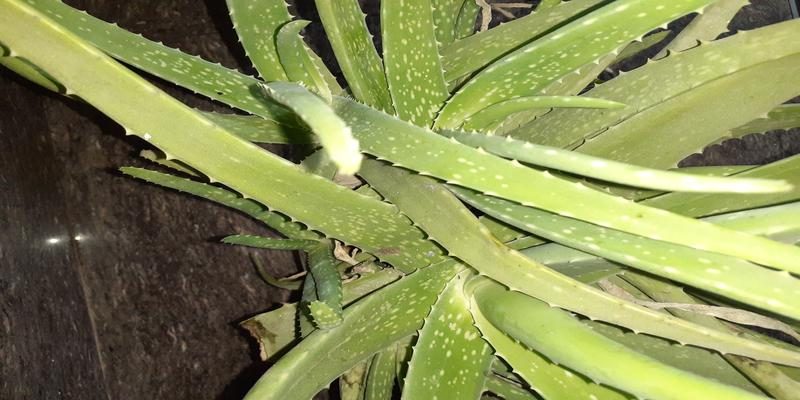Aloevera: (113, 43, 766, 366)
